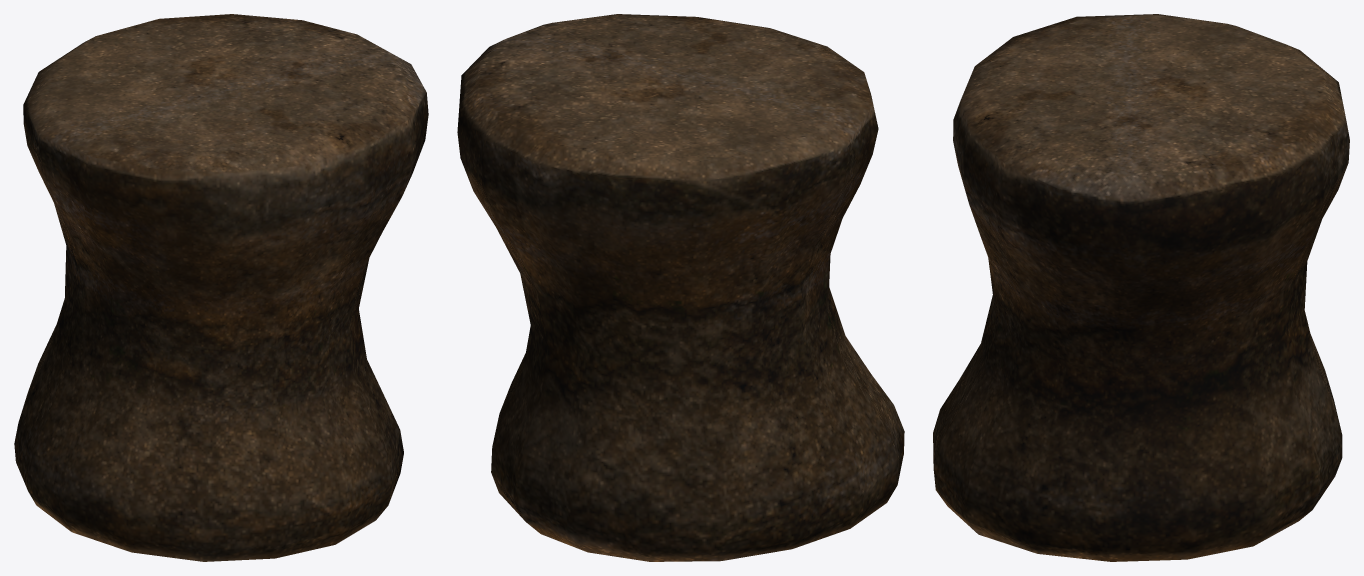
File: SM_TI_Column_2m_0.fbx
The picture shows the model from 3 angles, left to right: view 1: azimuth 30°, elevation 25°; view 2: azimuth 150°, elevation 25°; view 3: azimuth 270°, elevation 25°; orthographic projection. The views are drawn at different scales.
Parts seen in each view (by area): view 1: SM_TI_Column_2m_0; view 2: SM_TI_Column_2m_0; view 3: SM_TI_Column_2m_0.
Boxes of the visible parts, <box> form: SM_TI_Column_2m_0: <box>14,14,428,561</box>; SM_TI_Column_2m_0: <box>457,14,904,561</box>; SM_TI_Column_2m_0: <box>933,14,1349,561</box>.
Bounding box in the file's own units: 2.13 × 2.01 × 2.18.
